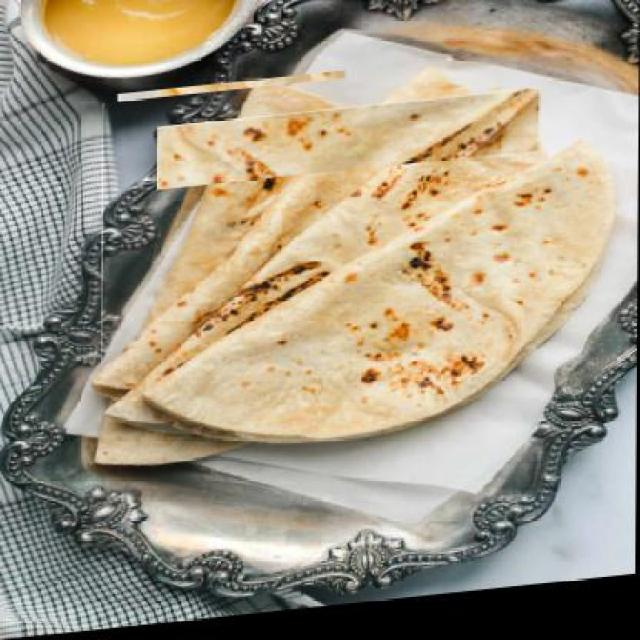chapati: (151, 156, 617, 472), (101, 76, 470, 364), (156, 99, 541, 375), (115, 78, 348, 328)
